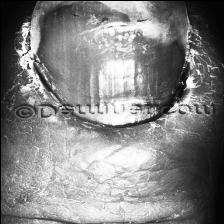Toxin: (140, 0, 200, 51), (15, 15, 53, 75), (31, 0, 159, 10)
